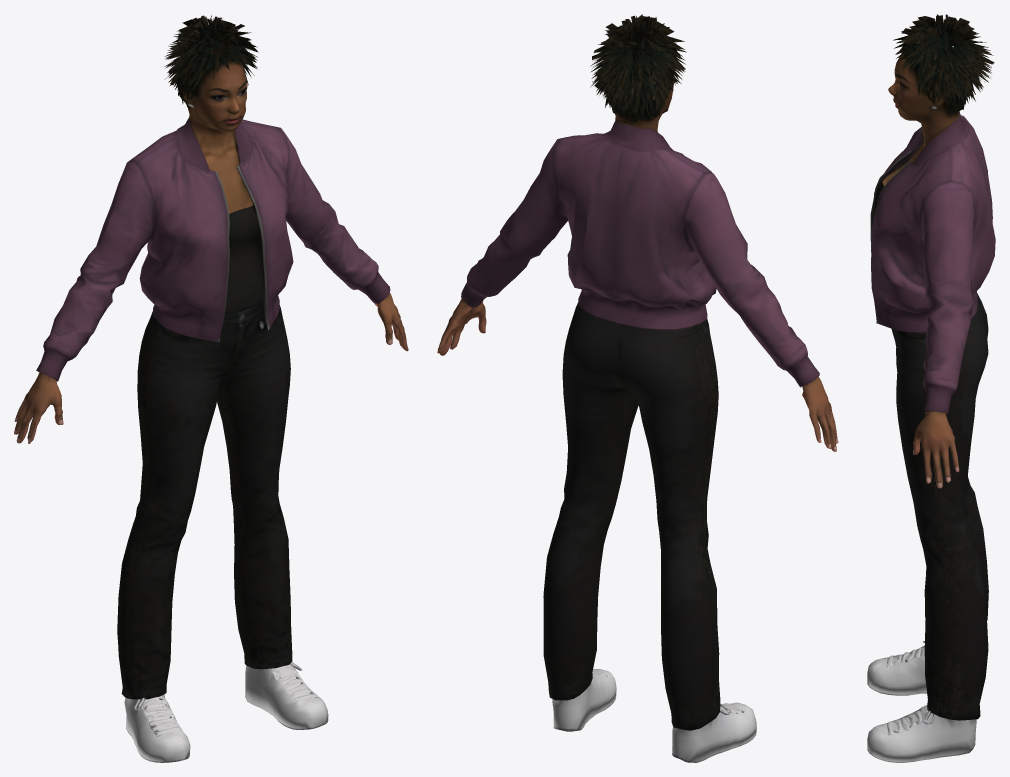
The model's file is nia-wallace.glb.
3 renders of one model, left to right at view 1: azimuth 30°, elevation 25°; view 2: azimuth 150°, elevation 25°; view 3: azimuth 270°, elevation 25°, orthographic.
Visible parts, largest first — view 1: geometry_0; view 2: geometry_0; view 3: geometry_0.
Boxes of the visible parts, x1=… form: geometry_0: x1=14, y1=15, x2=408, y2=762; geometry_0: x1=437, y1=14, x2=838, y2=762; geometry_0: x1=867, y1=14, x2=995, y2=762.
Bounding box in the file's own units: 0.5503 × 0.9502 × 0.1572.
1 material, 1 textured.
